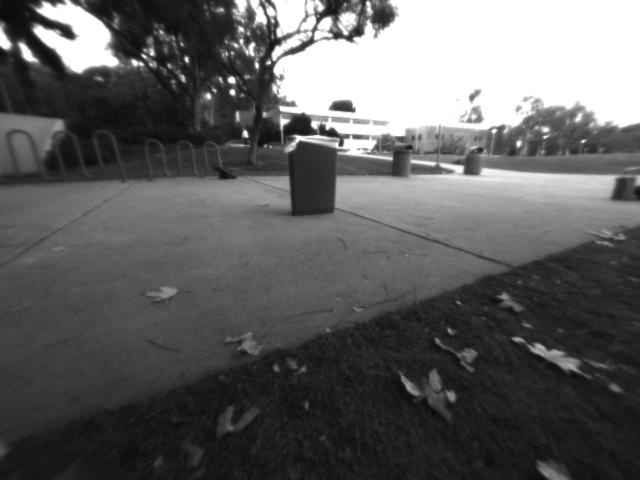trashcan_open: (286, 131, 339, 218)
